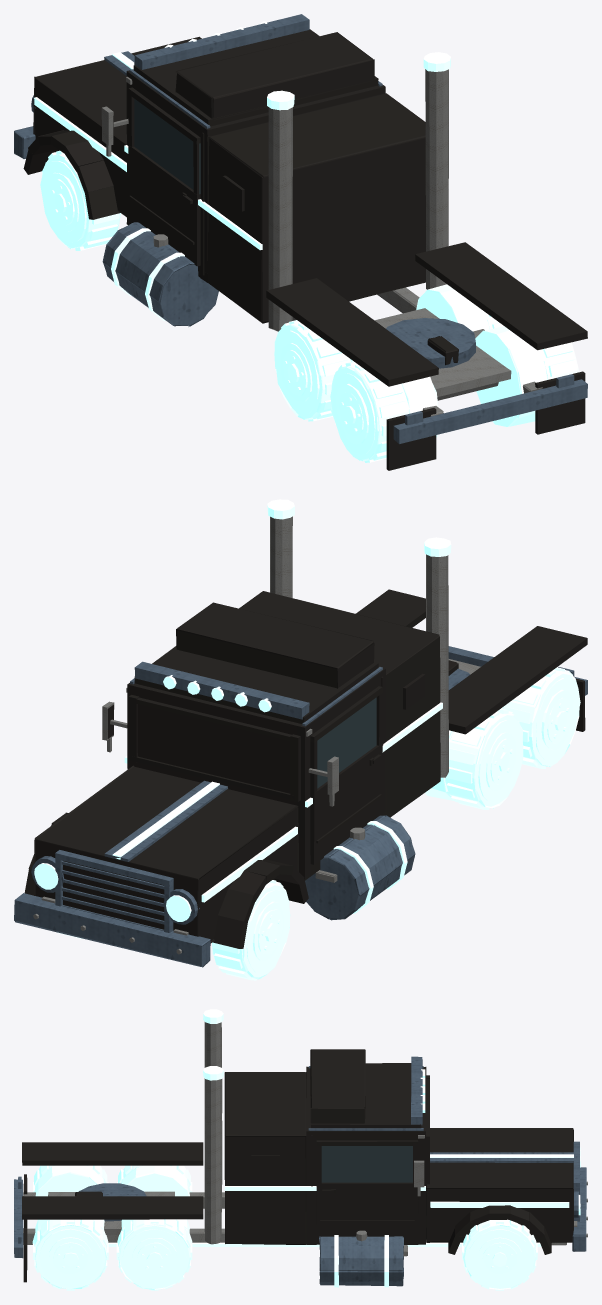
The model's file is starlight_hauler.glb.
3 renders of one model, top to bottom at view 1: azimuth 30°, elevation 25°; view 2: azimuth 150°, elevation 25°; view 3: azimuth 270°, elevation 25°, orthographic. The views are drawn at different scales.
Visible parts, largest first — view 1: StarlightHauler, Door_L, Wheel_L3, Wheel_L2, Wheel_R3, Wheel_L1, Glass_L, Wheel_R2; view 2: StarlightHauler, Door_L, Wheel_L2, Wheel_L3, Wheel_L1, Glass_L; view 3: StarlightHauler, Door_R, Wheel_R2, Wheel_R3, Wheel_R1, Glass_R, Wheel_L2, Wheel_L3.
Part boxes in pixels (x1,y1,x2,y2): StarlightHauler: (14, 14, 587, 470); Door_L: (128, 87, 200, 266); Wheel_L3: (330, 361, 438, 462); Wheel_L2: (274, 320, 353, 421); Wheel_R3: (475, 326, 578, 426); Wheel_L1: (40, 150, 120, 250); Glass_L: (134, 99, 200, 194); Wheel_R2: (416, 284, 503, 331); StarlightHauler: (14, 499, 587, 967); Door_L: (310, 686, 382, 864); Wheel_L2: (425, 708, 523, 809); Wheel_L3: (501, 667, 580, 768); Wheel_L1: (212, 880, 290, 980); Glass_L: (317, 697, 376, 788); StarlightHauler: (14, 1009, 587, 1287); Door_R: (316, 1140, 418, 1236); Wheel_R2: (116, 1219, 192, 1290); Wheel_R3: (32, 1219, 108, 1290); Wheel_R1: (462, 1219, 537, 1290); Glass_R: (321, 1146, 412, 1182); Wheel_L2: (117, 1165, 192, 1219); Wheel_L3: (33, 1165, 108, 1196).
Size of the model in its own units: 2.75 by 2.92 by 7.09.
5 materials, 2 textured.
